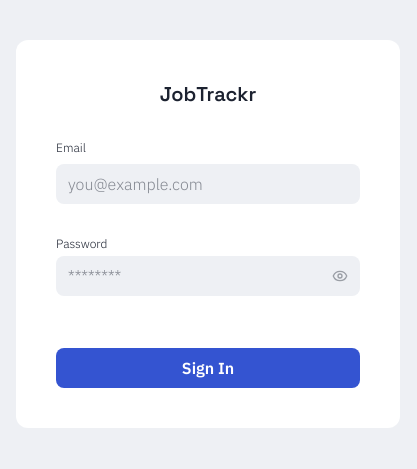
Scenario: LoginForm component › should show error message when signIn rejects
The width and height of the screenshot is (417, 469).
Type "example@email.com" into the field labelled "Email" at (208, 184), box [56,164,360,204]
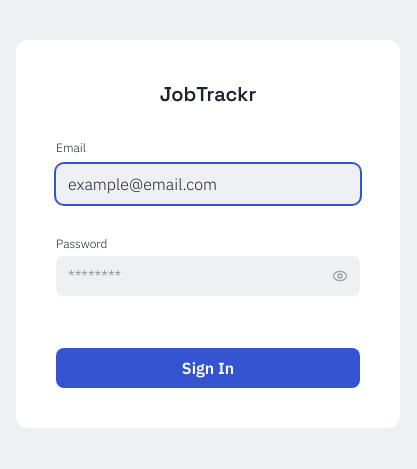
Type "12345678" into the password field labelled "Password" at (208, 276), box [56,256,360,296]
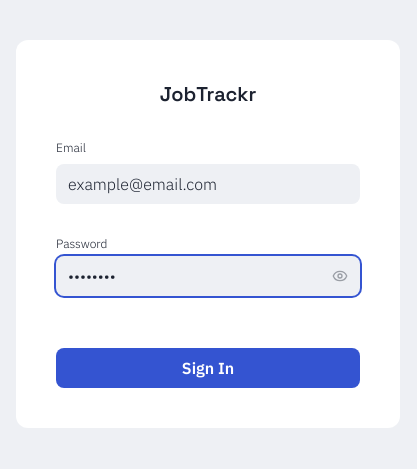
Click the button "Sign In" at (208, 368), box [56,348,360,388]
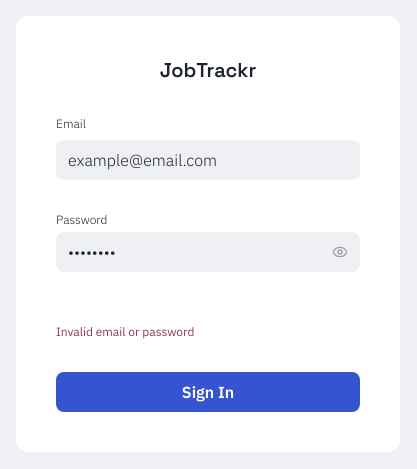
Now the text "Invalid email or password" is shown, box [56,324,194,339]
